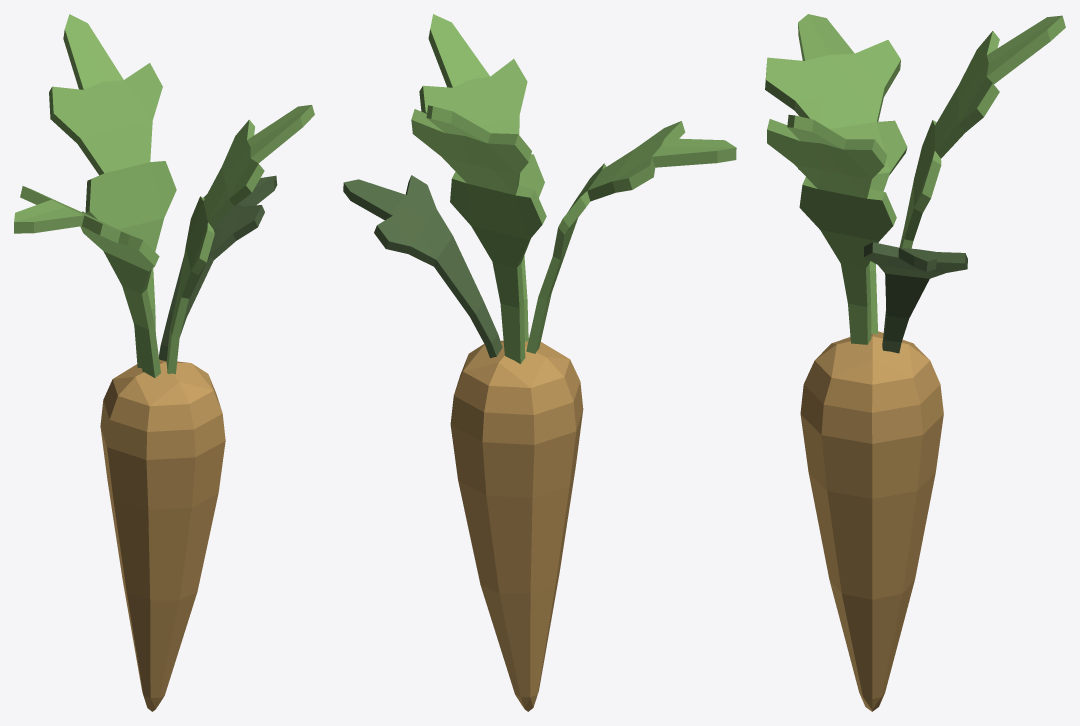
Rendered from carrot_ripe.glb.
3 renders of one model, left to right at view 1: azimuth 30°, elevation 25°; view 2: azimuth 150°, elevation 25°; view 3: azimuth 270°, elevation 25°, orthographic. The views are drawn at different scales.
Visible parts, largest first — view 1: Carrot_4; view 2: Carrot_4; view 3: Carrot_4.
Part boxes in pixels (left/top/right/bottom): Carrot_4: left=14, top=14, right=314, bottom=711; Carrot_4: left=343, top=14, right=736, bottom=711; Carrot_4: left=765, top=14, right=1065, bottom=711.
Size of the model in its own units: 1.34 by 2.56 by 1.
